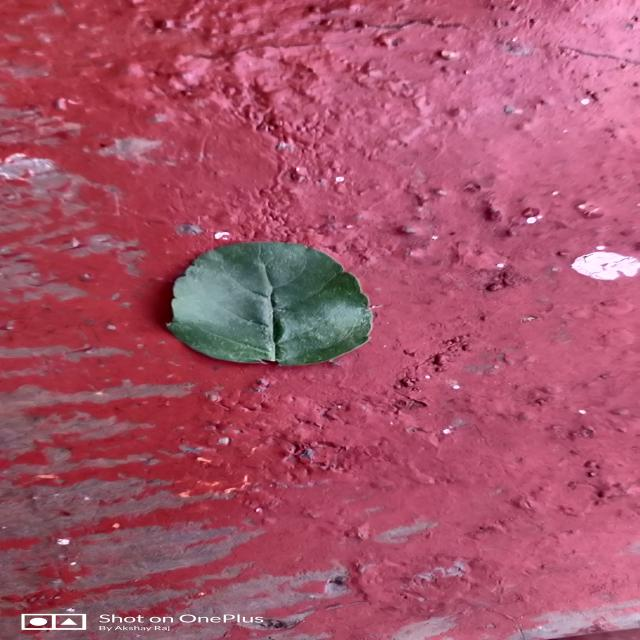tulsi: (167, 242, 373, 365)
